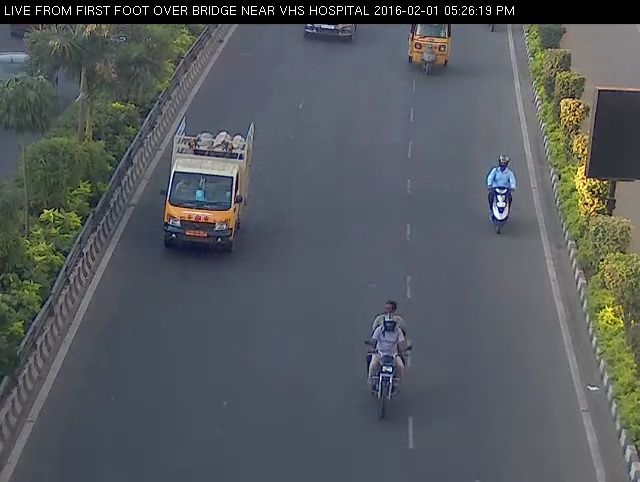Auto: (151, 108, 262, 269), (395, 11, 466, 86)
Car: (303, 22, 357, 45)
Person: (351, 295, 422, 430), (477, 148, 524, 244)
